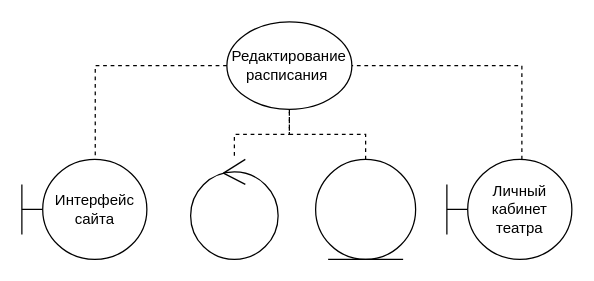
The diagram is 594 pixels wide and 281 high, and some of its shapes have lost their labels. The centre of each missing label's shape, as x and y in pixels:
"База данных спектаклей" goes at [365,208].
"Изменение данных" goes at [233,208].
